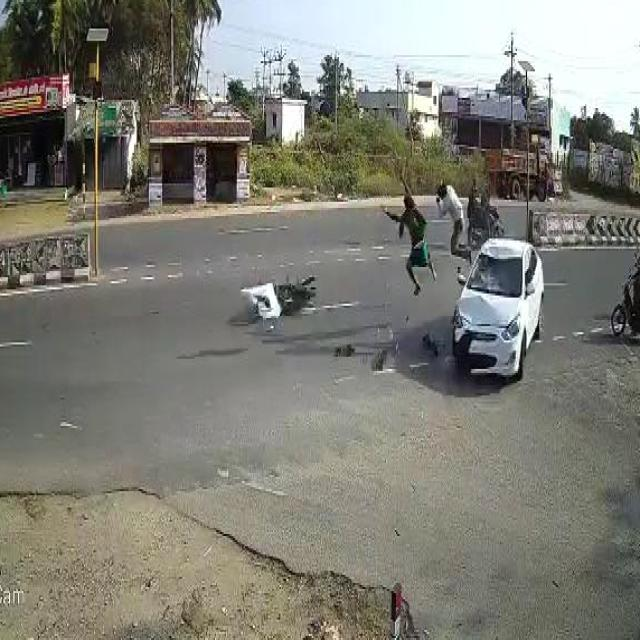accident: (378, 168, 554, 396), (236, 248, 324, 352)
